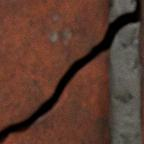brick: (138, 0, 143, 143)
broken_brick: (0, 0, 108, 130), (2, 50, 109, 143)
crack: (0, 0, 141, 143)
